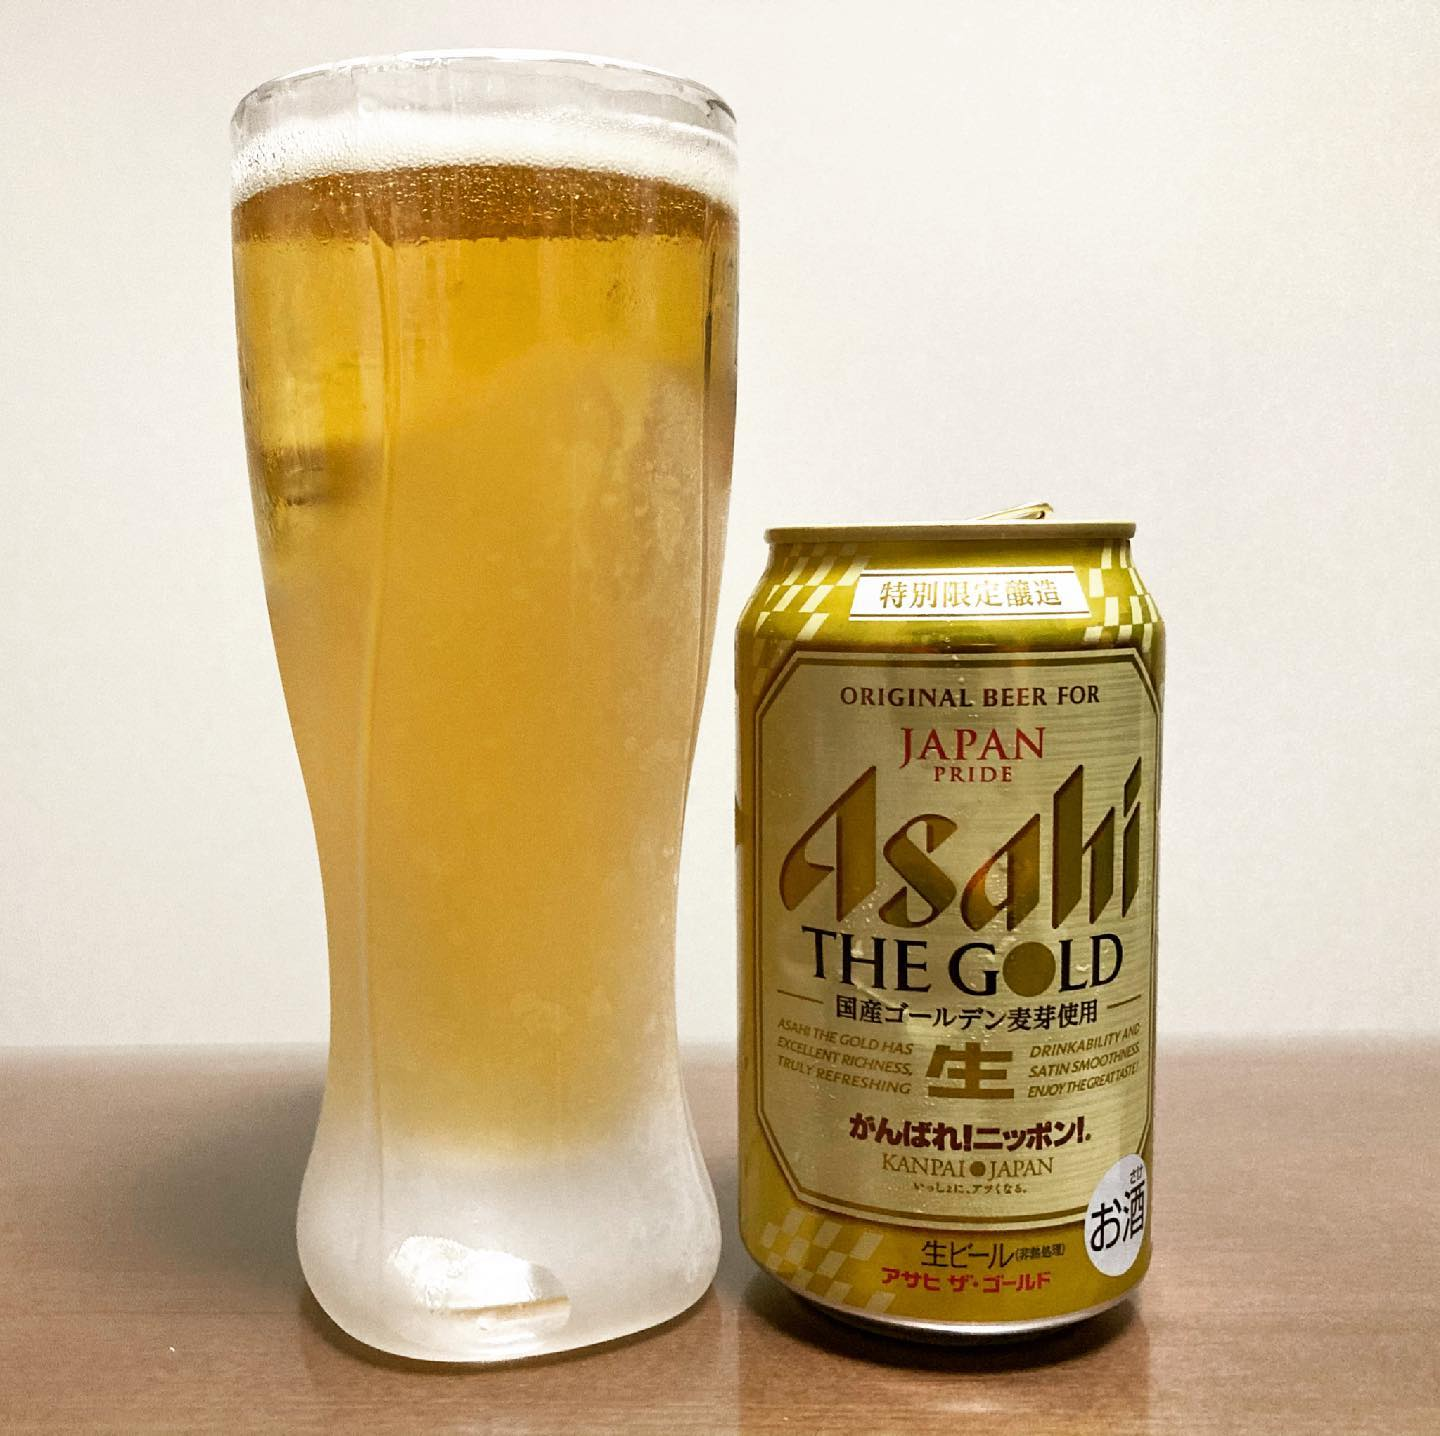alcohol: (221, 43, 748, 1376), (727, 492, 1174, 1358)
